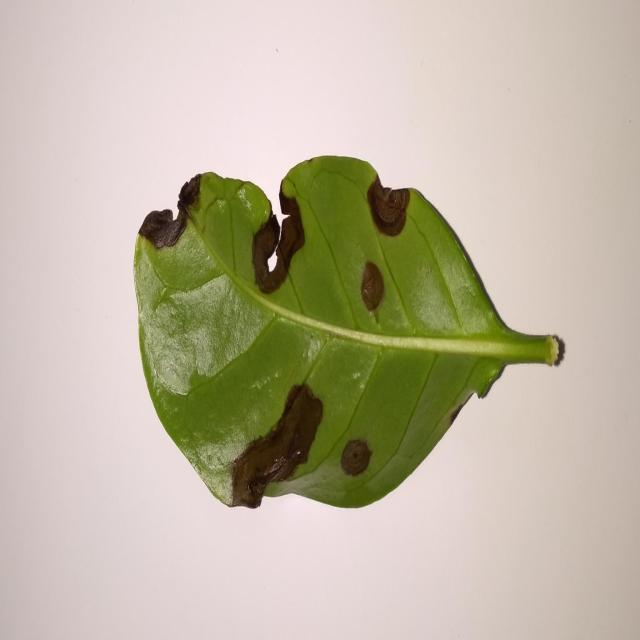Enfermedad-Antracnosis: (132, 157, 565, 513)
